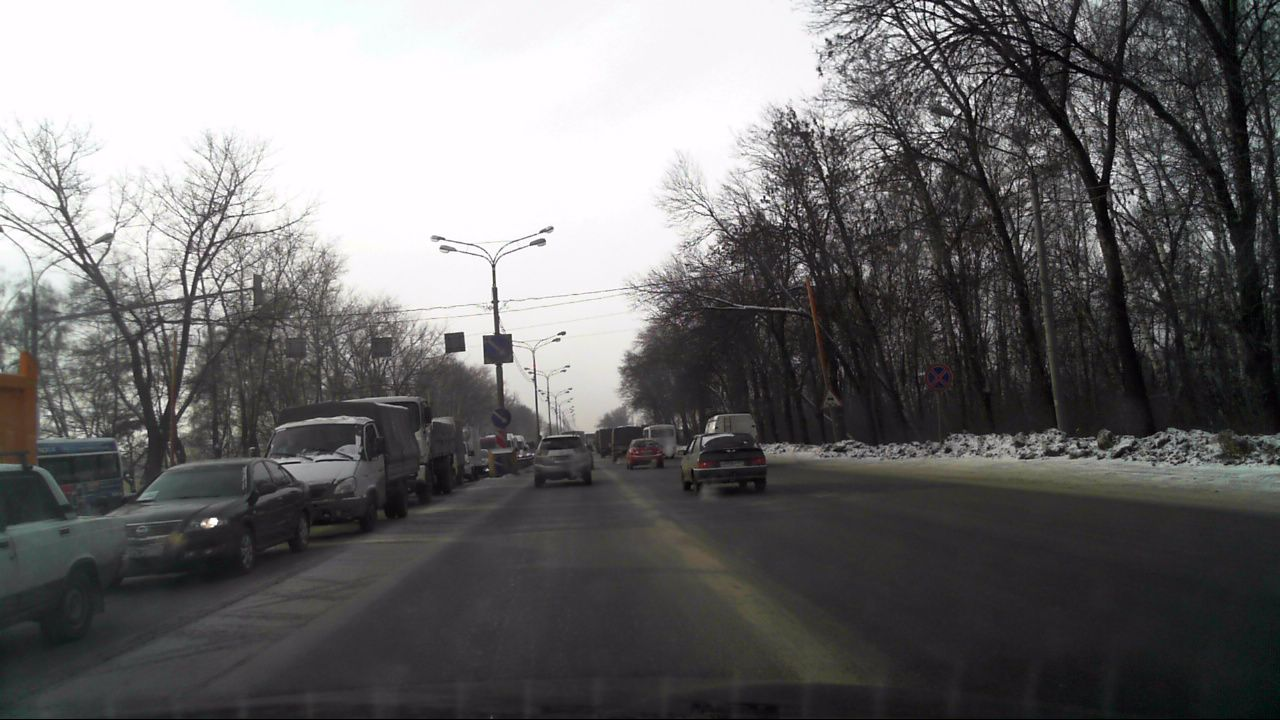No Parking: (926, 364, 951, 391)
